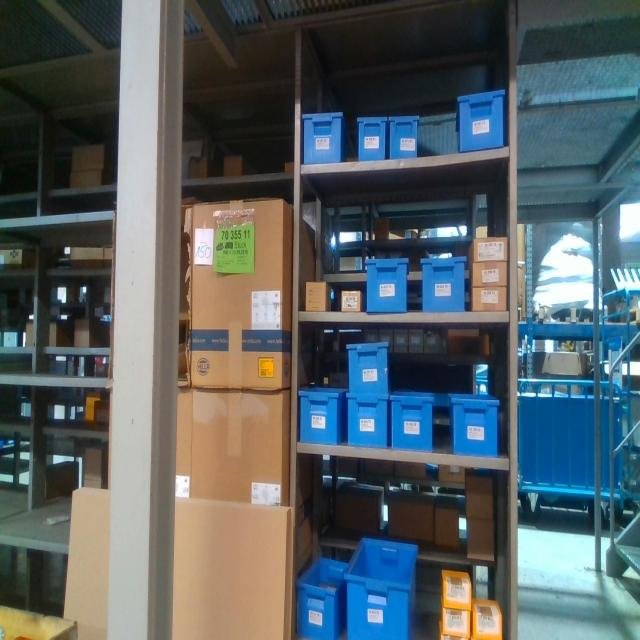small_load_carrier: (343, 526, 420, 637), (294, 549, 352, 639), (455, 87, 508, 155), (449, 393, 500, 457), (338, 393, 393, 448), (387, 393, 434, 454), (364, 256, 407, 316), (299, 385, 340, 447), (423, 260, 466, 314), (346, 340, 389, 392), (303, 110, 343, 163), (385, 111, 421, 164), (356, 113, 389, 169)
